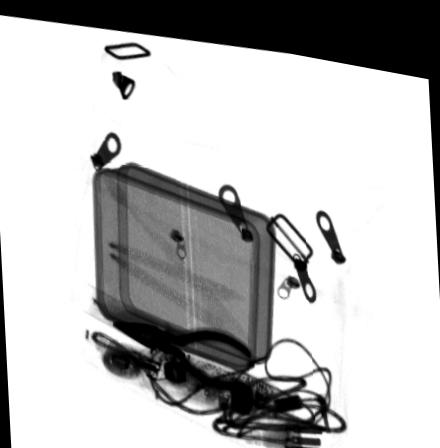Pliers: (109, 315, 253, 390)
